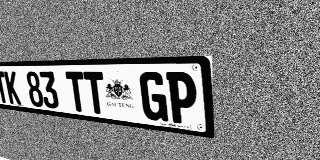3: (39, 71, 59, 109)
8: (25, 71, 44, 107)
G: (139, 72, 168, 122)
K: (4, 71, 21, 105)
P: (166, 72, 198, 126)
T: (83, 72, 107, 115), (65, 71, 88, 113), (0, 71, 9, 103)
